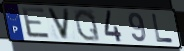4: (103, 9, 123, 43)
9: (127, 12, 148, 43)
E: (20, 7, 52, 40)
L: (150, 13, 175, 44)
Q: (74, 8, 103, 43)
V: (46, 7, 71, 42)
